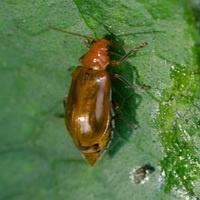insect: (49, 26, 146, 165)
